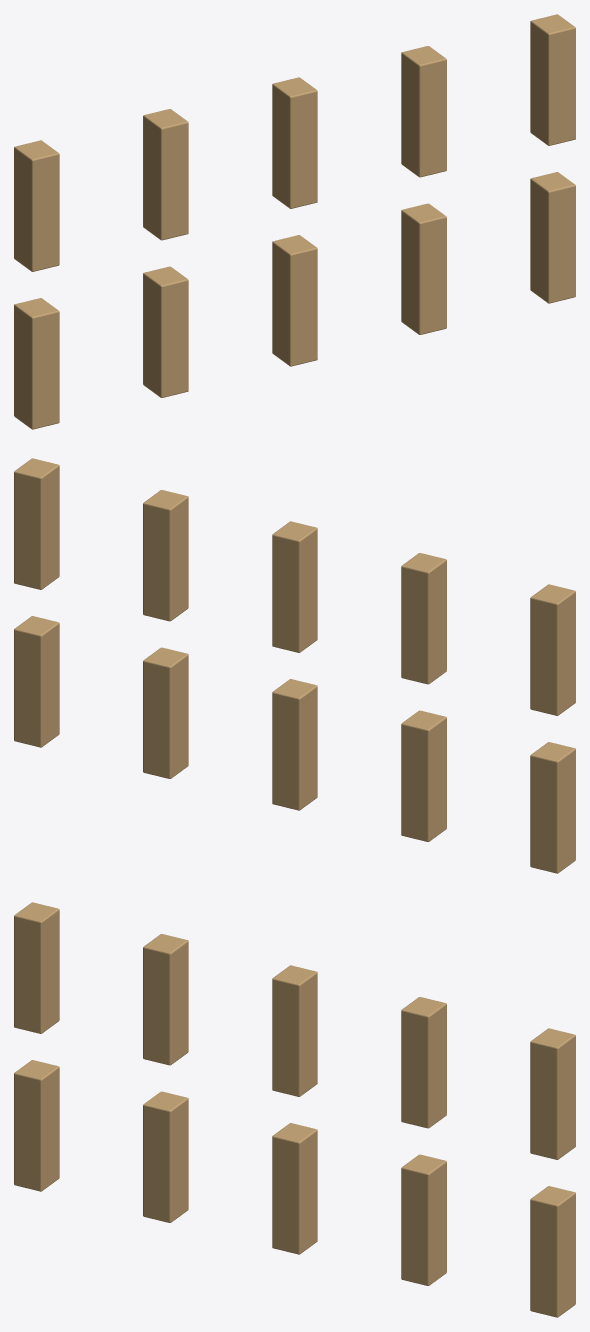
The model's file is StageFacade_Wall.fbx.
3 views of the same model, one above another, from view 1: azimuth 30°, elevation 25°; view 2: azimuth 150°, elevation 25°; view 3: azimuth 330°, elevation 25° (orthographic).
Visible parts, largest first — view 1: FacadePier0_-24.001; view 2: FacadePier0_-24.001; view 3: FacadePier0_-24.001.
Part boxes in pixels (bbox=[...]): FacadePier0_-24.001: bbox=[14, 14, 575, 429]; FacadePier0_-24.001: bbox=[14, 458, 575, 873]; FacadePier0_-24.001: bbox=[14, 902, 575, 1317].
Size of the model in its own units: 5060 by 2400 by 300.
